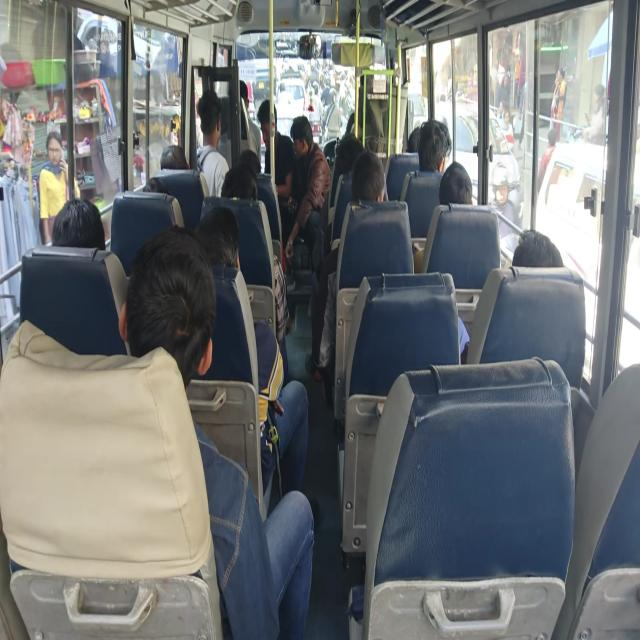person: (118, 226, 315, 638), (194, 205, 310, 499), (305, 150, 387, 380), (458, 228, 564, 362), (282, 115, 332, 272), (412, 160, 473, 272), (38, 130, 81, 245), (256, 98, 294, 201), (196, 89, 230, 197), (51, 198, 105, 250), (489, 160, 519, 252), (512, 228, 564, 268), (417, 118, 451, 173), (438, 161, 472, 205), (582, 83, 606, 143), (221, 163, 258, 200), (537, 128, 557, 194), (550, 66, 567, 142), (323, 88, 342, 141), (160, 144, 190, 170)
